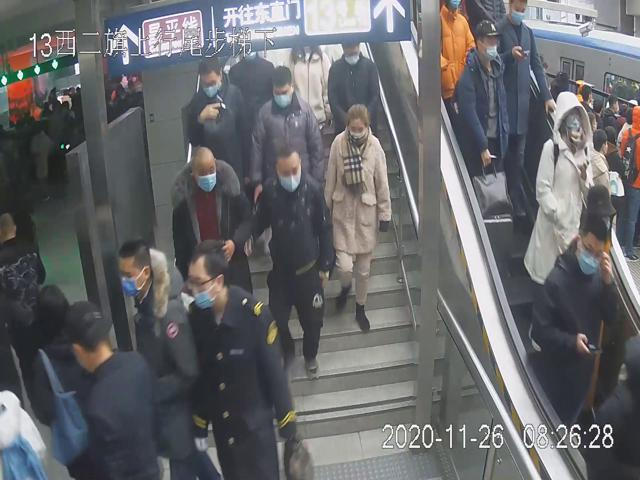person: (183, 235, 308, 480), (234, 138, 332, 384), (531, 211, 619, 429), (325, 101, 393, 336), (169, 141, 248, 311), (245, 62, 328, 217), (454, 12, 511, 208), (184, 52, 245, 186), (322, 39, 382, 152)
